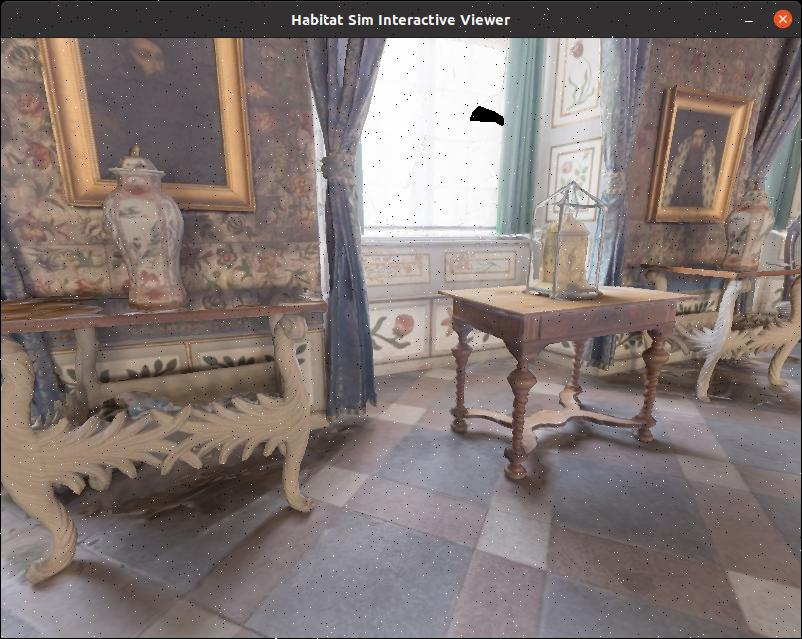table: (0, 264, 354, 586), (425, 269, 690, 494), (659, 245, 802, 419)
